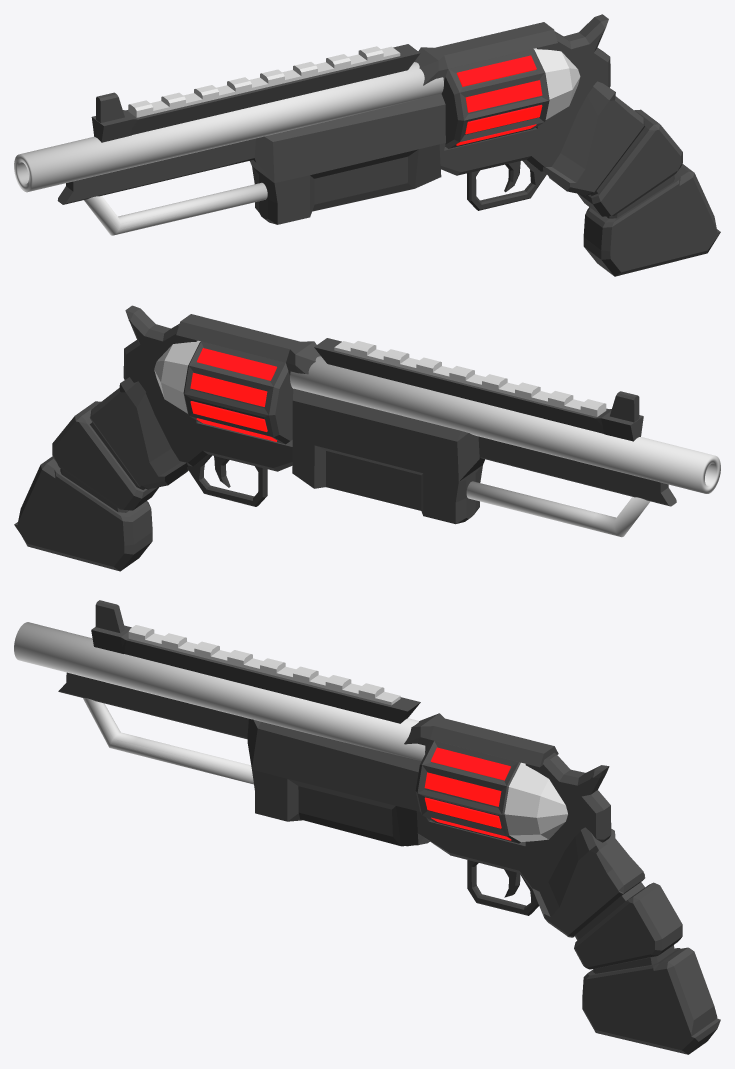
Rendered from revolverNew.fbx_Collection.fbx.
3 views of the same model, one above another, from view 1: azimuth 30°, elevation 25°; view 2: azimuth 150°, elevation 25°; view 3: azimuth 330°, elevation 25° (orthographic).
Visible parts, largest first — view 1: Plane, Plane.001, Cylinder, Cylinder.003, Cube, Cylinder.002, Cylinder.001, Plane.002, Plane.010, Plane.009, Plane.008; view 2: Plane, Plane.001, Cylinder.003, Cylinder, Cube, Cylinder.002, Cylinder.001, Plane.002, Plane.003, Plane.004, Plane.005; view 3: Plane, Plane.001, Cylinder.003, Cylinder, Cube, Cylinder.001, Cylinder.002, Plane.002, Plane.010, Plane.009, Plane.008.
Part boxes in pixels (<box>): Plane: <box>57,14,610,224</box>; Plane.001: <box>543,81,720,276</box>; Cylinder: <box>91,22,557,148</box>; Cylinder.003: <box>14,62,443,192</box>; Cube: <box>128,46,400,117</box>; Cylinder.002: <box>84,182,267,235</box>; Cylinder.001: <box>533,48,580,119</box>; Plane.002: <box>467,159,546,210</box>; Plane.010: <box>465,80,542,112</box>; Plane.009: <box>456,55,536,86</box>; Plane.008: <box>465,104,542,134</box>; Plane: <box>123,305,676,524</box>; Plane.001: <box>14,377,188,571</box>; Cylinder.003: <box>290,356,720,493</box>; Cylinder: <box>176,314,643,444</box>; Cube: <box>334,341,606,416</box>; Cylinder.002: <box>466,481,650,537</box>; Cylinder.001: <box>154,340,200,413</box>; Plane.002: <box>187,454,267,506</box>; Plane.003: <box>190,373,267,406</box>; Plane.004: <box>197,348,276,380</box>; Plane.005: <box>190,401,267,431</box>; Plane: <box>58,672,611,891</box>; Plane.001: <box>532,827,720,1054</box>; Cylinder.003: <box>14,622,425,760</box>; Cylinder: <box>91,600,558,843</box>; Cube: <box>128,625,400,705</box>; Cylinder.001: <box>504,762,567,842</box>; Cylinder.002: <box>83,698,253,784</box>; Plane.002: <box>467,860,538,915</box>; Plane.010: <box>424,772,501,806</box>; Plane.009: <box>431,747,510,780</box>; Plane.008: <box>424,797,501,828</box>.
Bounding box in the file's own units: 505 × 207 × 60.79.
